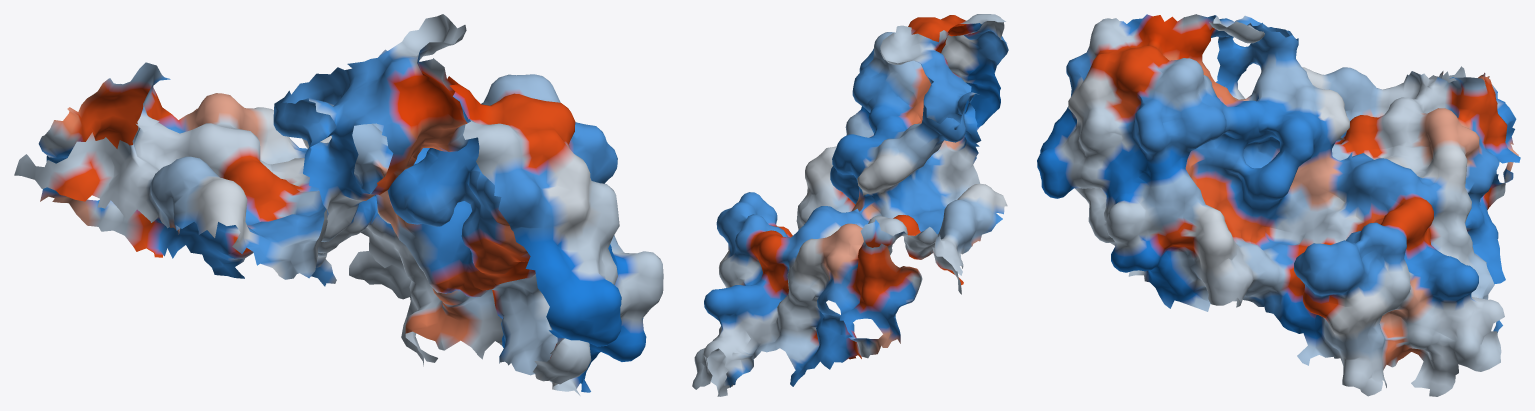
Rendered from Fab3Mask.fbx.
3 views of the same model, side by side, from view 1: azimuth 30°, elevation 25°; view 2: azimuth 150°, elevation 25°; view 3: azimuth 270°, elevation 25° (orthographic). The views are drawn at different scales.
Visible parts, largest first — view 1: Shape_IndexedTriangleSet; view 2: Shape_IndexedTriangleSet; view 3: Shape_IndexedTriangleSet.
Boxes of the visible parts, x1=… form: Shape_IndexedTriangleSet: x1=14, y1=14, x2=663, y2=395; Shape_IndexedTriangleSet: x1=692, y1=14, x2=1008, y2=396; Shape_IndexedTriangleSet: x1=1037, y1=14, x2=1520, y2=396.
Size of the model in its own units: 3950 by 5114 by 3914.
